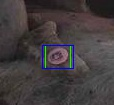text: (45, 45, 70, 68)
